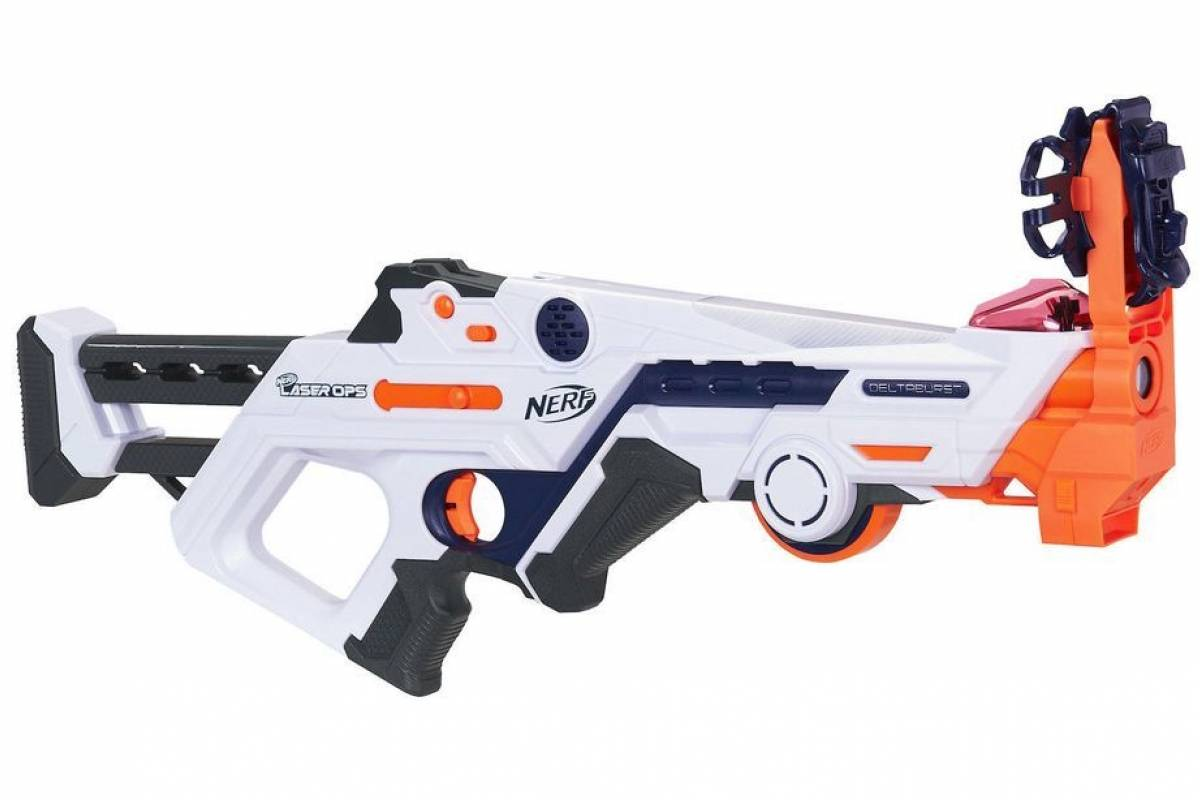Arma Falsa: (14, 93, 1200, 697)
